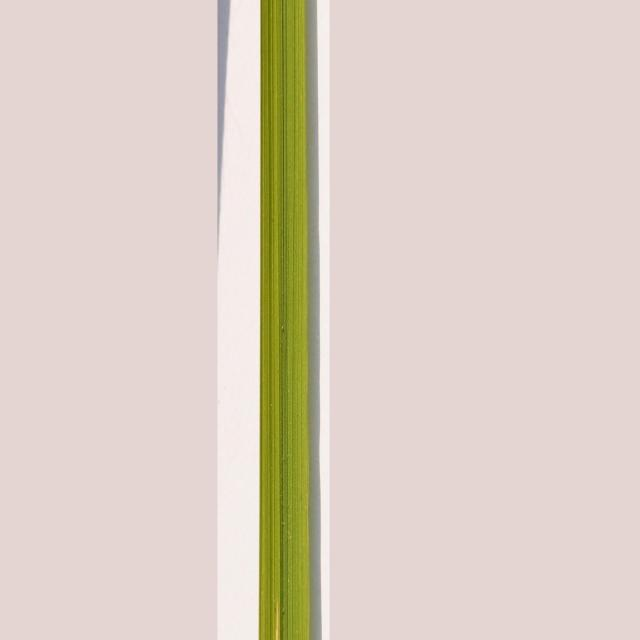Bacterial leaf blight: (218, 0, 330, 640)
